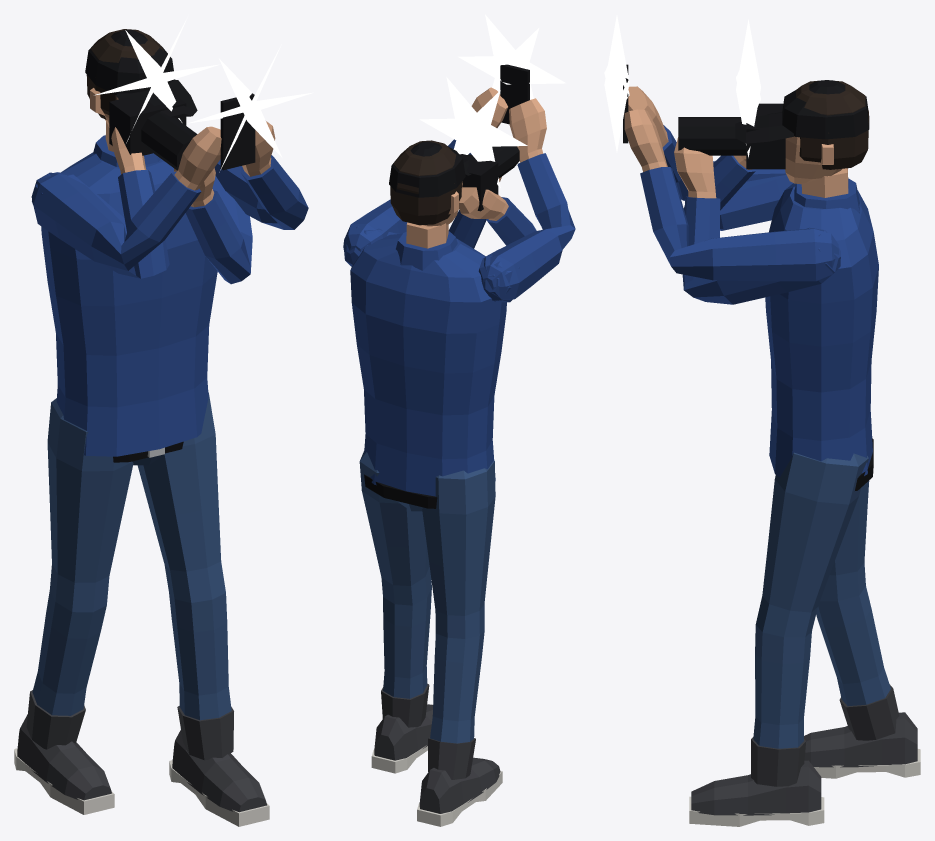
The model's file is fan_photo.glb.
3 views of the same model, side by side, from view 1: azimuth 30°, elevation 25°; view 2: azimuth 150°, elevation 25°; view 3: azimuth 270°, elevation 25° (orthographic). The views are drawn at different scales.
Visible parts, largest first — view 1: Track, Track.001, Flash, Flash.001; view 2: Track, Track.001, Flash.001, Flash; view 3: Track, Track.001, Flash, Flash.001.
Boxes of the visible parts, left/top/right/bottom form: Track: left=14, top=29, right=308, bottom=826; Track.001: left=32, top=98, right=252, bottom=284; Flash: left=187, top=44, right=313, bottom=172; Flash.001: left=94, top=17, right=220, bottom=143; Track: left=343, top=64, right=575, bottom=826; Track.001: left=344, top=146, right=536, bottom=302; Flash.001: left=419, top=77, right=527, bottom=187; Flash: left=458, top=14, right=565, bottom=99; Track: left=623, top=64, right=920, bottom=826; Track.001: left=674, top=103, right=840, bottom=304; Flash: left=604, top=15, right=629, bottom=152; Flash.001: left=736, top=19, right=760, bottom=157.
Bounding box in the file's own units: 0.5131 × 1.93 × 0.7214.
